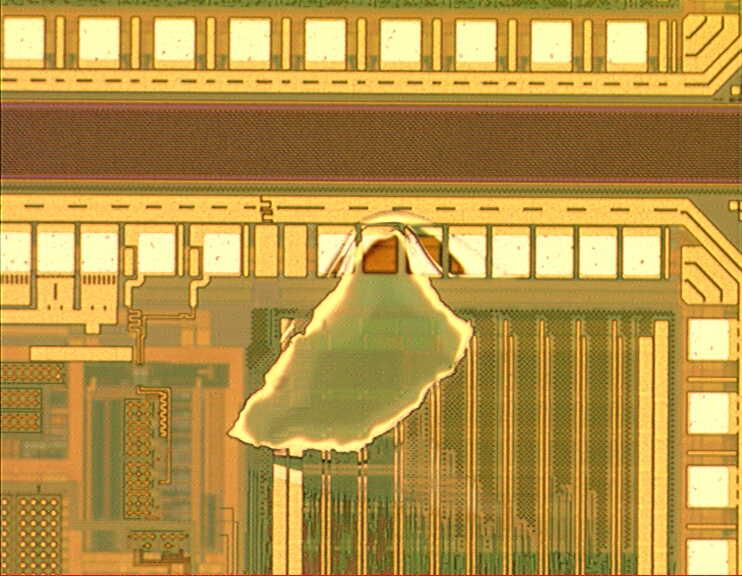BLOCK ETCH: (225, 208, 502, 465)
